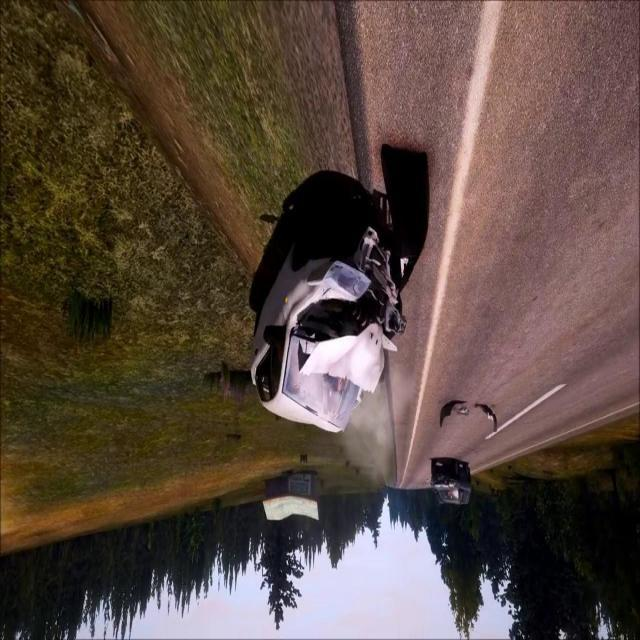severe: (248, 201, 408, 442)
